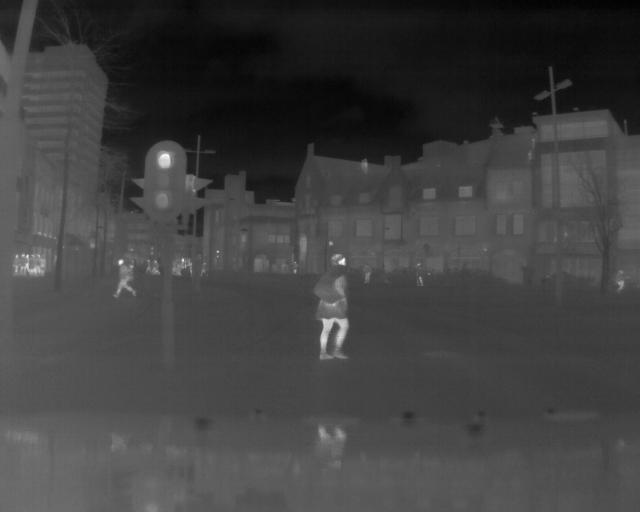person: (317, 251, 355, 368), (111, 256, 139, 302), (614, 269, 632, 298), (414, 259, 427, 293), (361, 260, 373, 290)
